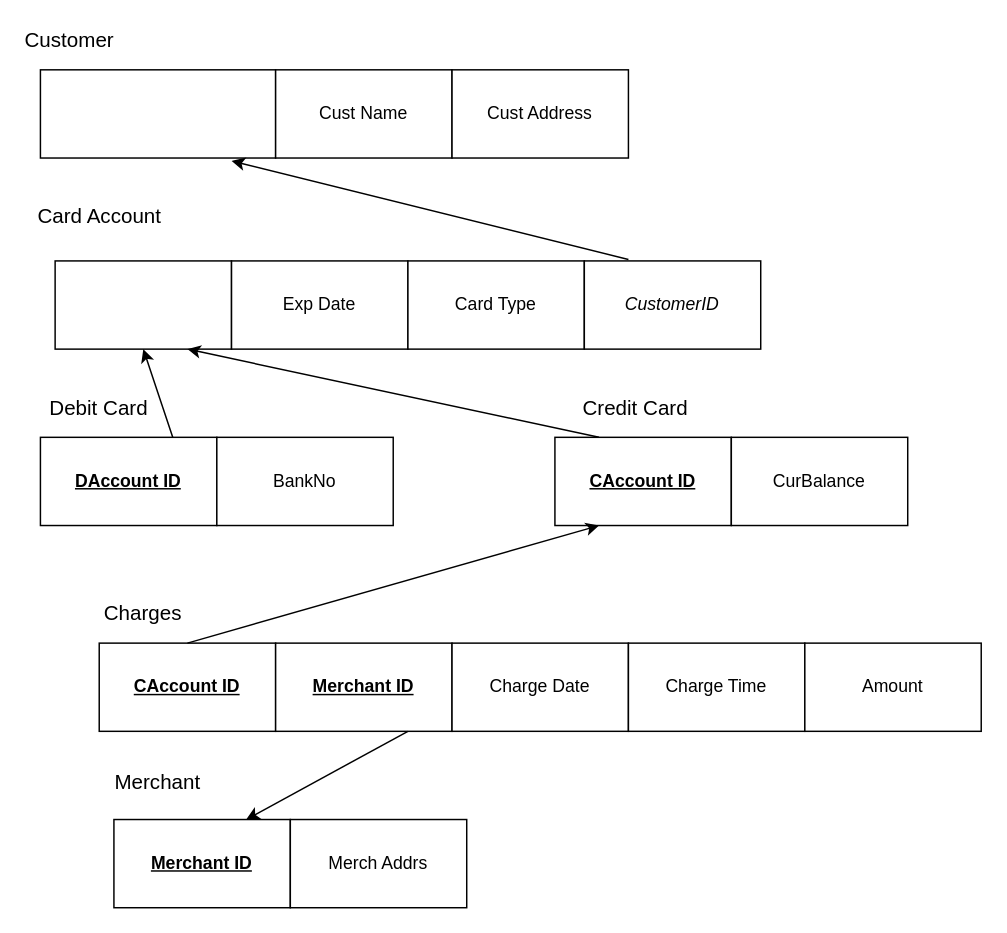
This 1007x933 diagram has some shape labels left out. The shapes that lost their labels are listed below. From the top down, each one's box as (x1, y1, x2, y2) in pixels, then its label:
(39, 68, 276, 158): Customer ID
(54, 259, 232, 349): Account ID
